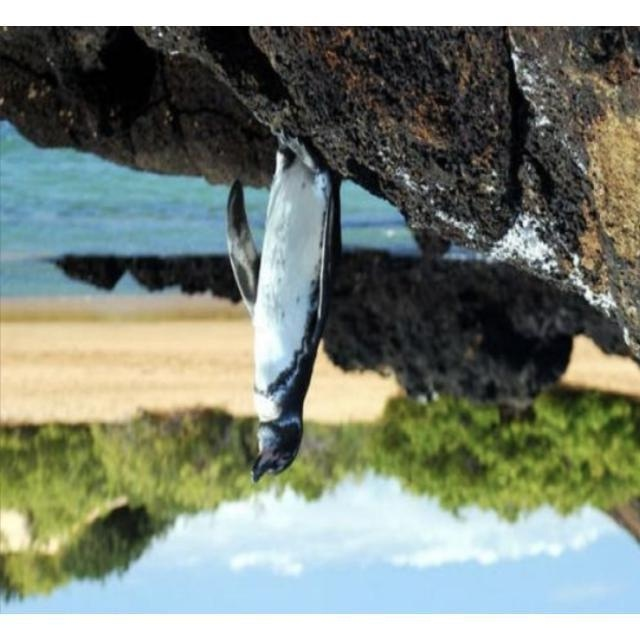penguin: (223, 128, 342, 484)
